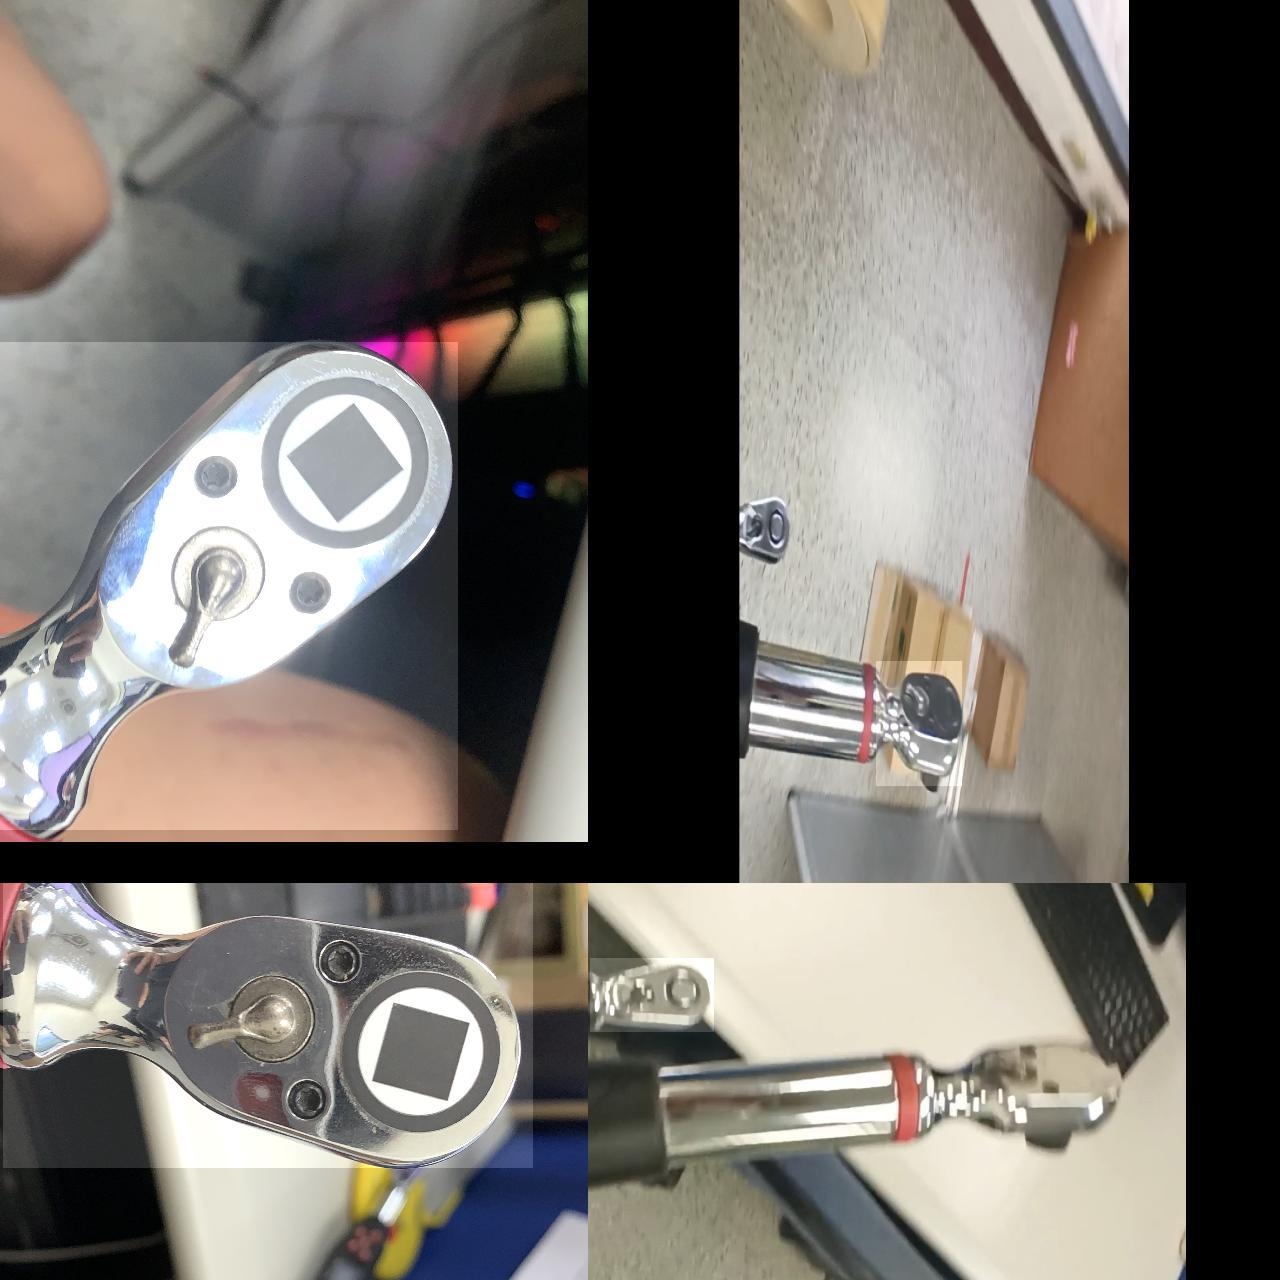Tool: (0, 341, 458, 829), (4, 883, 533, 1167), (876, 660, 962, 785), (590, 956, 714, 1032), (740, 492, 791, 563)
